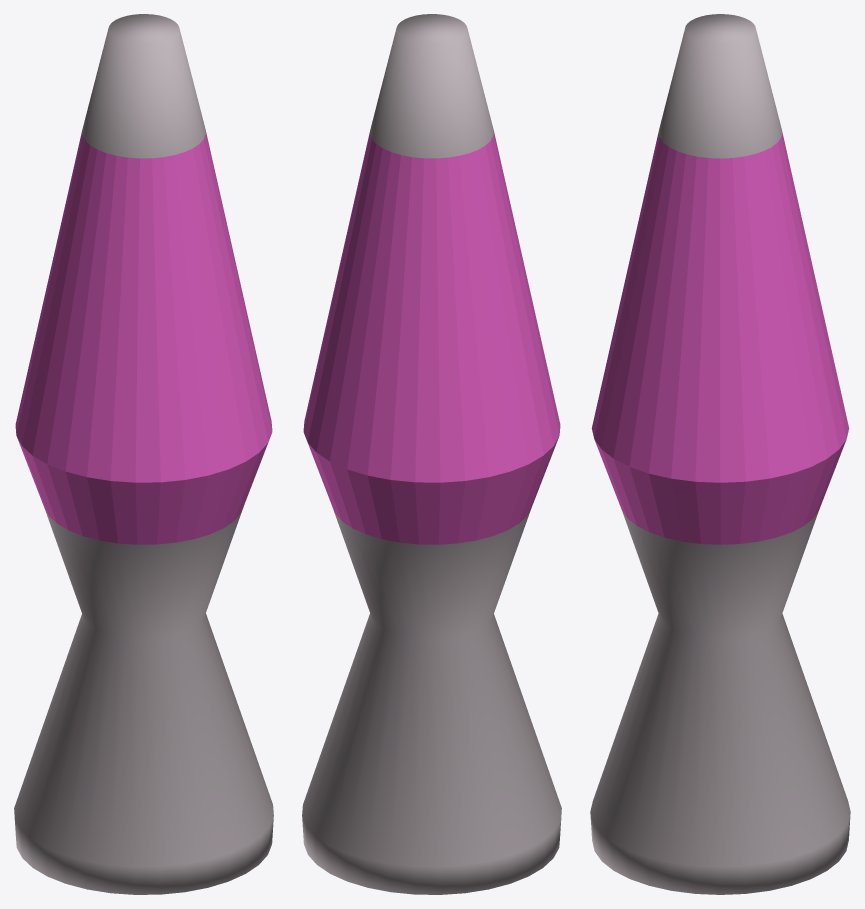
File: lavalamp.fbx
The picture shows the model from 3 angles, left to right: view 1: azimuth 30°, elevation 25°; view 2: azimuth 150°, elevation 25°; view 3: azimuth 270°, elevation 25°; orthographic projection.
Visible parts, largest first — view 1: Cylinder, Cylinder.001; view 2: Cylinder, Cylinder.001; view 3: Cylinder, Cylinder.001.
Boxes of the visible parts, left/top/right/bottom form: Cylinder: left=14, top=14, right=273, bottom=894; Cylinder.001: left=15, top=130, right=272, bottom=544; Cylinder: left=302, top=14, right=561, bottom=894; Cylinder.001: left=303, top=130, right=560, bottom=544; Cylinder: left=590, top=14, right=850, bottom=894; Cylinder.001: left=591, top=132, right=849, bottom=544.
Bounding box in the file's own units: 139 × 480 × 139.
